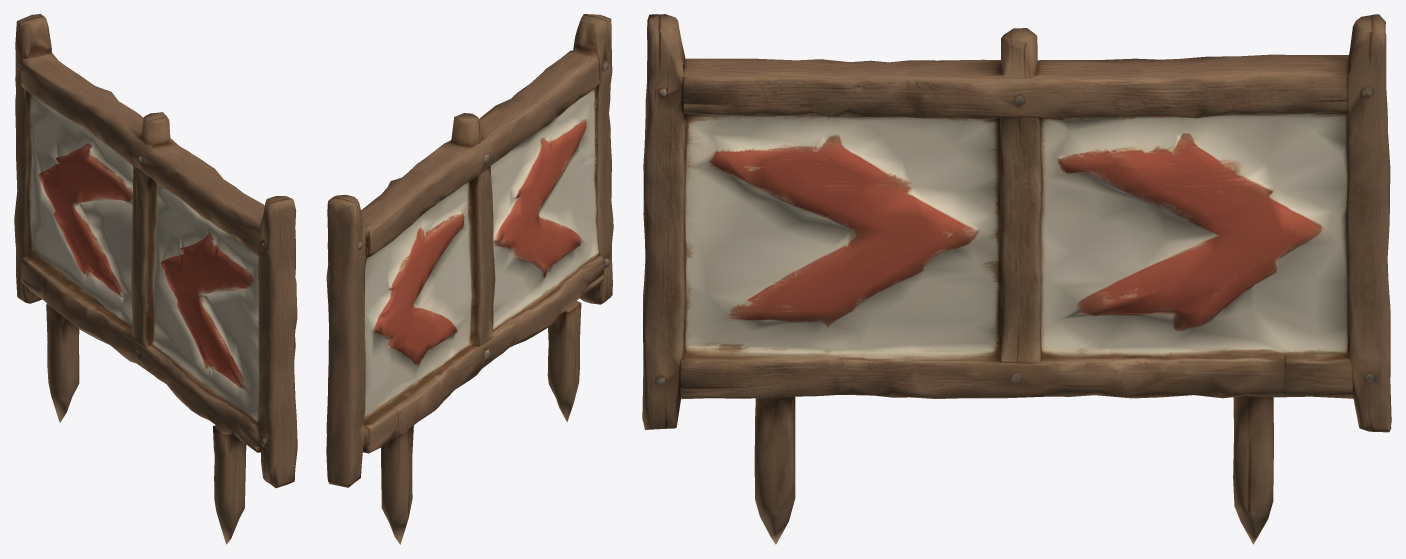
Rendered from wooden+signboard+3d+model.fbx.
The picture shows the model from 3 angles, left to right: view 1: azimuth 30°, elevation 25°; view 2: azimuth 150°, elevation 25°; view 3: azimuth 270°, elevation 25°; orthographic projection. The views are drawn at different scales.
Parts seen in each view (by area): view 1: meshes[0]; view 2: meshes[0]; view 3: meshes[0].
Boxes of the visible parts, x1,y1,x2,y2 form: meshes[0]: (14,14,297,544); meshes[0]: (326,14,613,544); meshes[0]: (642,14,1391,544).
Size of the model in its own units: 0.0988 by 0.7847 by 1.
Materials: 1 (1 with a texture image).
